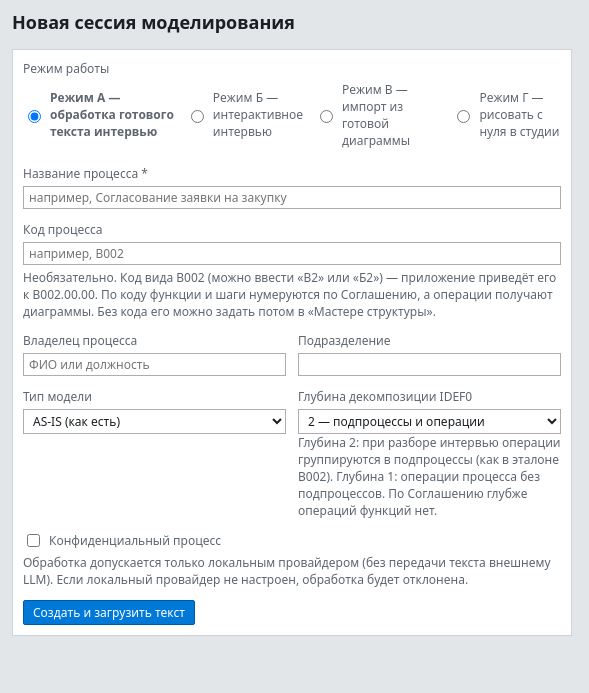
Test: новая сессия › без названия — сообщение, запрос не уходит
The width and height of the screenshot is (589, 693).
Click the button "Создать и загрузить текст" at (109, 612), box [23,600,195,625]
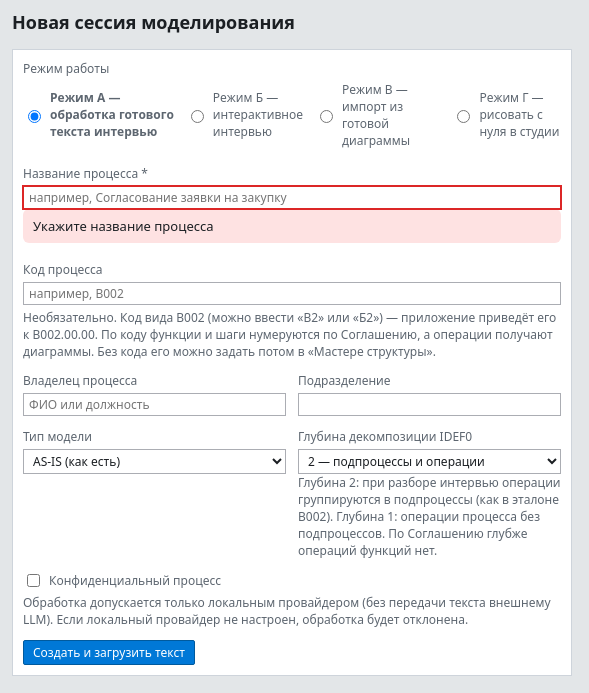
Now the text "Укажите название процесса" is shown, box [23,209,561,243]
